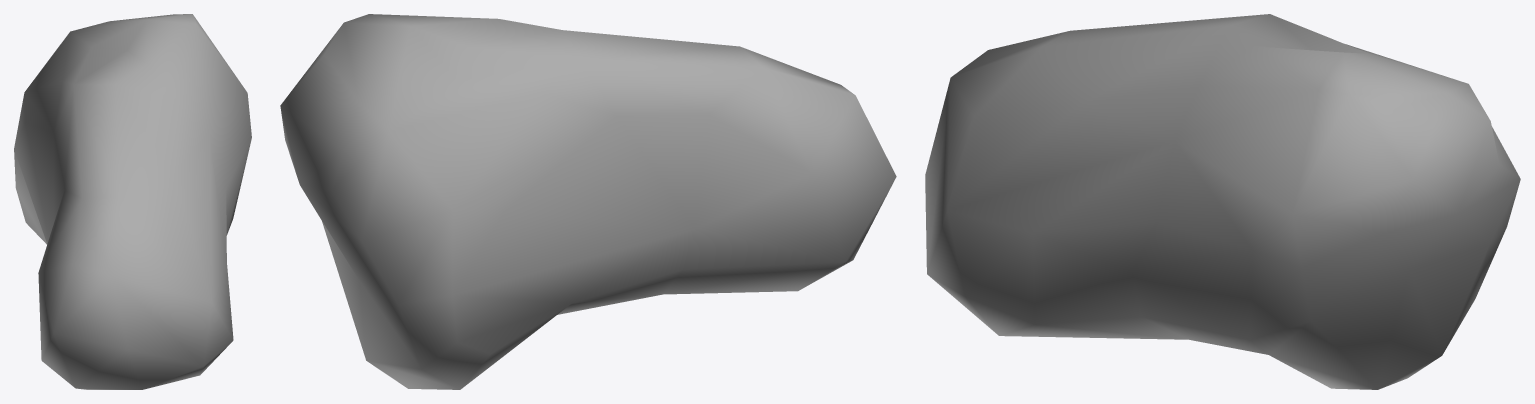
File: SoftRock_09.fbx
3 views of the same model, side by side, from view 1: azimuth 30°, elevation 25°; view 2: azimuth 150°, elevation 25°; view 3: azimuth 270°, elevation 25° (orthographic). The views are drawn at different scales.
Visible parts, largest first — view 1: SoftRock_09; view 2: SoftRock_09; view 3: SoftRock_09.
Boxes of the visible parts, box(x1,y1,x2,y2) form: SoftRock_09: box(14, 14, 251, 389); SoftRock_09: box(280, 14, 896, 389); SoftRock_09: box(925, 14, 1520, 389).
Size of the model in its own units: 80.65 by 62.05 by 97.95.
